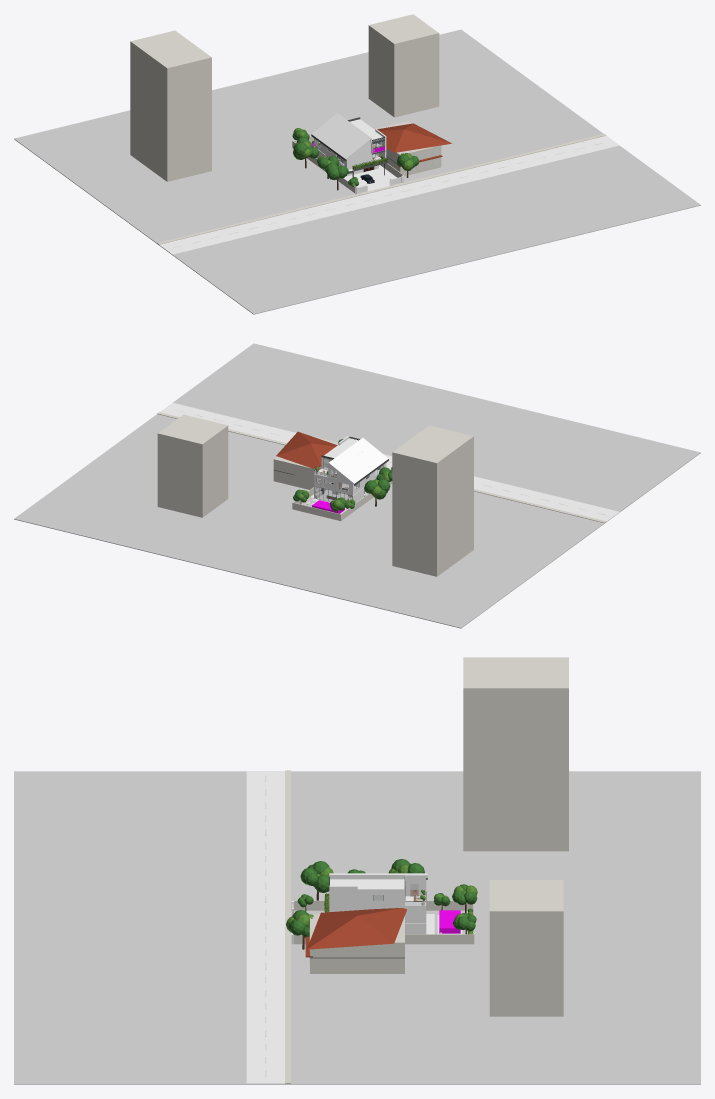
Rendered from nha.glb.
The picture shows the model from 3 angles, top to bottom: view 1: azimuth 30°, elevation 25°; view 2: azimuth 150°, elevation 25°; view 3: azimuth 270°, elevation 25°; orthographic projection. The views are drawn at different scales.
Parts seen in each view (by area): view 1: site_Nen_01, site_NhaBen_15, site_NhaBen_16, site_Nen_02, roof_MaiDoc_01, site_Nen_03, site_NhaBen_13, site_NhaBen_01, site_Nen_28; view 2: site_Nen_01, site_NhaBen_15, site_NhaBen_16, site_Nen_02, roof_MaiDoc_01, site_NhaBen_13, site_NhaBen_01, site_Nen_03; view 3: site_Nen_01, site_NhaBen_15, site_Nen_02, site_NhaBen_16, site_NhaBen_13, site_NhaBen_01, site_Nen_03, site_HangRao_10, l2_KhoiPhai_02, roof_MaiBang_01, site_Cay_01.
Part boxes in pixels (x1,y1,x2,y2): site_Nen_01: (14,29,700,314); site_NhaBen_15: (130,30,211,181); site_NhaBen_16: (368,14,439,117); site_Nen_02: (159,135,619,254); roof_MaiDoc_01: (311,113,371,159); site_Nen_03: (157,134,606,244); site_NhaBen_13: (377,123,451,152); site_NhaBen_01: (374,121,441,176); site_Nen_28: (344,168,398,192); site_Nen_01: (14,343,700,628); site_NhaBen_15: (392,425,473,576); site_NhaBen_16: (157,414,228,517); site_Nen_02: (160,402,619,521); roof_MaiDoc_01: (328,438,388,484); site_NhaBen_13: (276,431,337,470); site_NhaBen_01: (273,436,338,489); site_Nen_03: (157,412,606,522); site_Nen_01: (14,771,700,1084); site_NhaBen_15: (463,657,568,851); site_Nen_02: (246,771,284,1083); site_NhaBen_16: (489,880,563,1016); site_NhaBen_13: (307,908,406,949); site_NhaBen_01: (310,914,404,973); site_Nen_03: (285,770,290,1083); site_HangRao_10: (294,934,473,944); l2_KhoiPhai_02: (329,885,357,911); roof_MaiBang_01: (330,879,404,890); site_Cay_01: (300,861,333,900).
Bounding box in the file's own units: 140 × 35.4 × 130.
